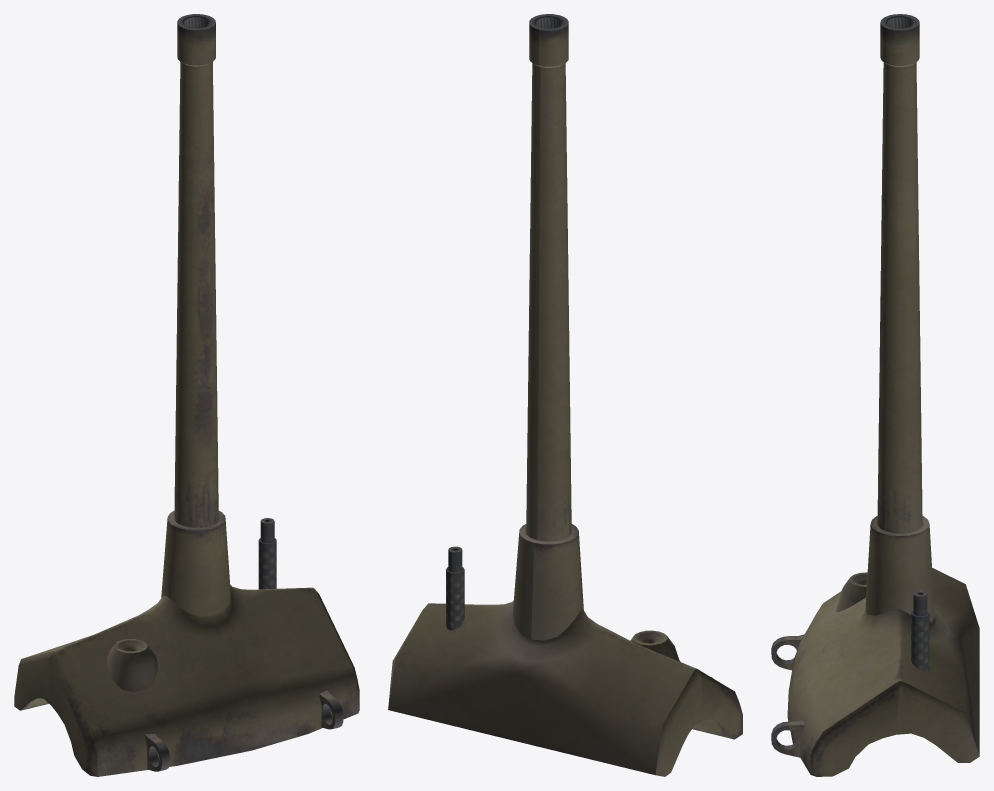
Rendered from Gun_01.glb.
3 views of the same model, side by side, from view 1: azimuth 30°, elevation 25°; view 2: azimuth 150°, elevation 25°; view 3: azimuth 270°, elevation 25° (orthographic). The views are drawn at different scales.
Visible parts, largest first — view 1: set_0_group_0; view 2: set_0_group_0; view 3: set_0_group_0.
Boxes of the visible parts, x1,y1,x2,y2 form: set_0_group_0: [14, 14, 359, 776]; set_0_group_0: [388, 14, 742, 776]; set_0_group_0: [771, 14, 979, 776].
Bounding box in the file's own units: 0.8812 × 2.15 × 0.5836.
1 material, 1 textured.
